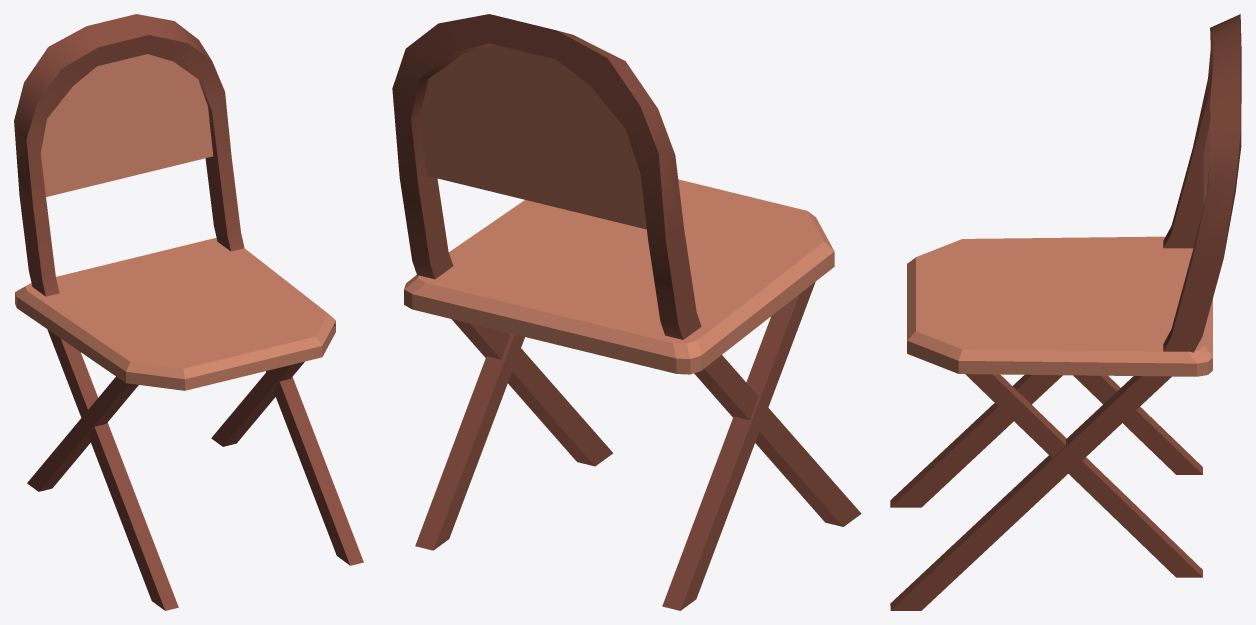
File: Chair_1.fbx
3 views of the same model, side by side, from view 1: azimuth 30°, elevation 25°; view 2: azimuth 150°, elevation 25°; view 3: azimuth 270°, elevation 25° (orthographic). The views are drawn at different scales.
Parts seen in each view (by area): view 1: Chair_1; view 2: Chair_1; view 3: Chair_1.
Boxes of the visible parts, <box> form: Chair_1: <box>14,14,363,610</box>; Chair_1: <box>392,14,861,610</box>; Chair_1: <box>890,14,1241,610</box>.
Size of the model in its own units: 80.36 by 158 by 97.05.
